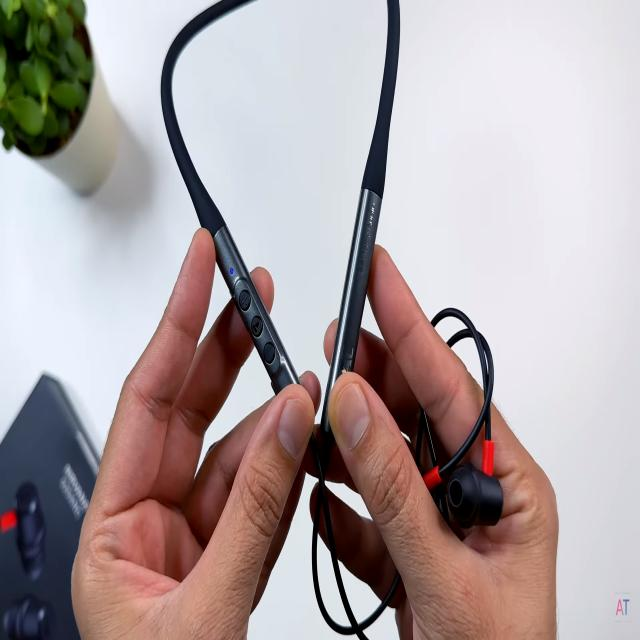Neckband: (160, 0, 506, 640)
